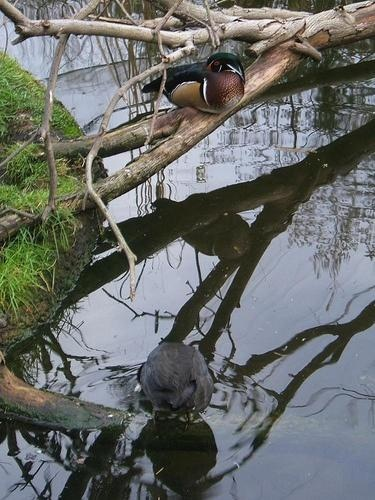bird: (142, 53, 247, 118), (140, 342, 216, 428)
